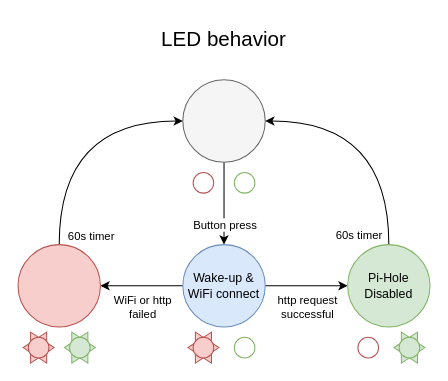
The diagram is 448 pixels wide and 381 high, and some of its shapes have lost their labels. Here are the shapes that lost their labels. From the top down, the centre of each, then its label:
At [223,120]: "Deep Sleep".
At [58,285]: "Failure".
